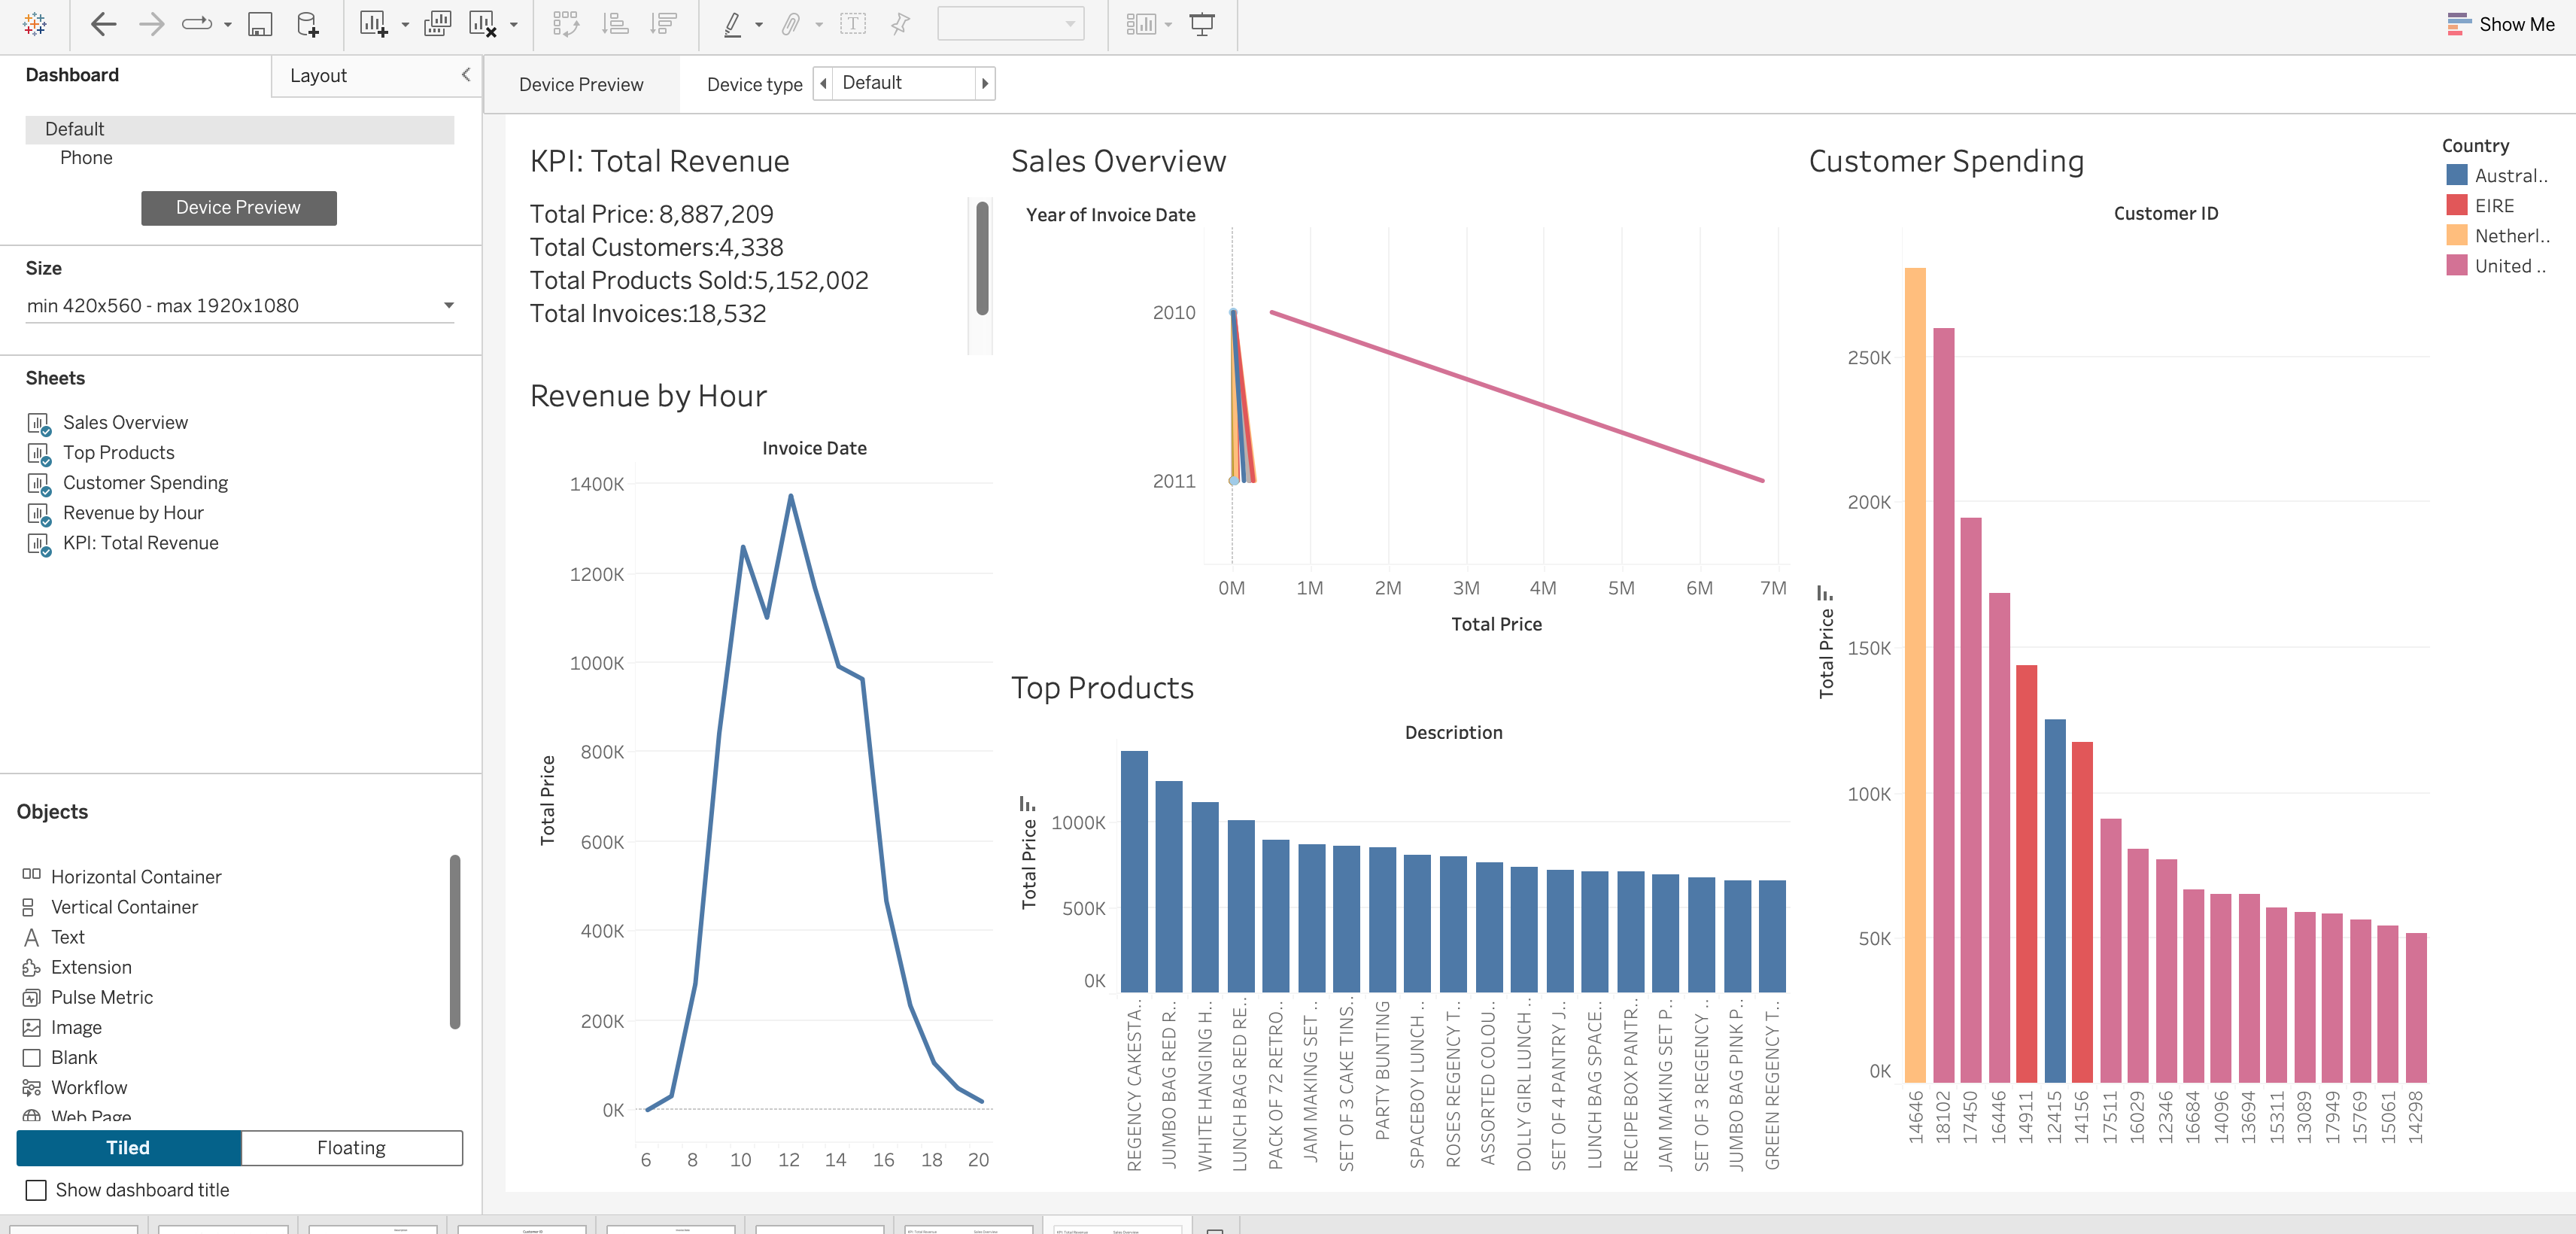

The dashboard page shown, as its layout file describes it:
{"tool":"tableau","page":{"name":"Dashboard","canvas":[1000,1000],"units":"permille","ordinal":0},"visuals":[{"type":"worksheet","title":"KPI: Total Revenue","mark":"Text","box":[5.8,11.2,232.6,217.8]},{"type":"worksheet","title":"Sales Overview","mark":"Automatic","rows":["InvoiceDate"],"cols":["TotalPrice"],"box":[238.4,11.2,385.1,488.8]},{"type":"worksheet","title":"Customer Spending","mark":"Automatic","rows":["TotalPrice"],"cols":["CustomerID"],"box":[623.5,11.2,308.9,977.7]},{"type":"legend","title":"Customer Spending","param":"[federated.0crgzyu0kh6ow21ey02sk0epwogw].[none:Country:nk]","box":[932.4,11.2,61.8,148]},{"type":"worksheet","title":"Revenue by Hour","mark":"Automatic","rows":["TotalPrice"],"cols":["InvoiceDate"],"box":[5.8,229,232.6,759.9]},{"type":"worksheet","title":"Top Products","mark":"Bar","rows":["TotalPrice"],"cols":["Description"],"box":[238.4,500,385.1,488.8]}]}

Visuals, with their boxes on the dashboard's canvas, which has no fixed pixel size, in thousandths of its width and height (x1, y1, x2, y2). These are canvas units, not pixel positions in the 2576x1234 screenshot, which may show the page scaled, cropped or inside an application window:
"KPI: Total Revenue" worksheet (Text marks): 6, 11, 238, 229
"Sales Overview" worksheet: 238, 11, 624, 500
"Customer Spending" worksheet: 624, 11, 932, 989
"Customer Spending" legend: 932, 11, 994, 159
"Revenue by Hour" worksheet: 6, 229, 238, 989
"Top Products" worksheet (Bar marks): 238, 500, 624, 989
